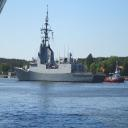Fragata: (13, 2, 107, 83)
